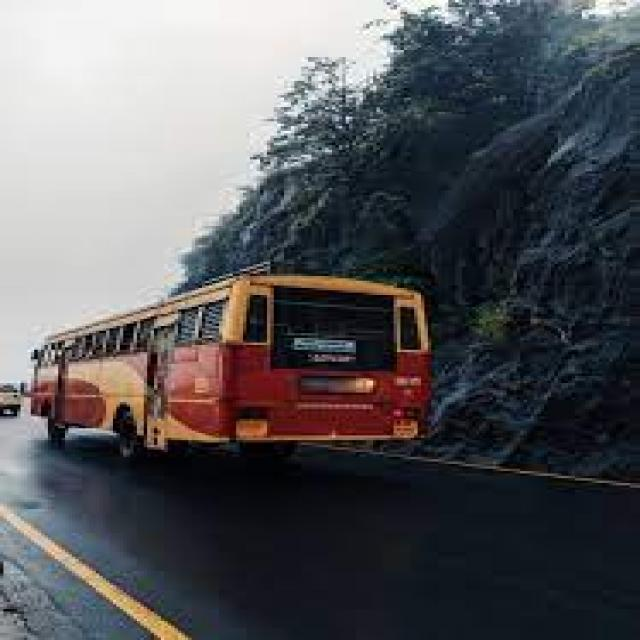BUS: (0, 259, 428, 457)
